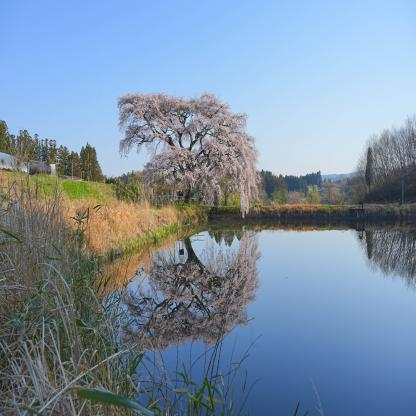EdohiganSakura: (118, 89, 262, 220)
